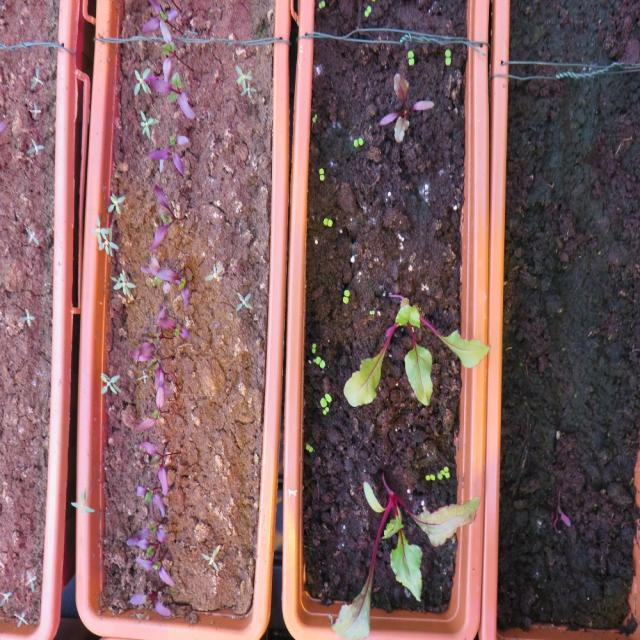weed: (68, 484, 96, 514), (138, 106, 160, 142), (98, 370, 122, 398), (200, 542, 222, 572), (106, 188, 126, 216), (24, 133, 45, 156), (26, 64, 44, 90), (203, 260, 223, 282), (21, 565, 37, 592), (16, 306, 35, 327), (234, 290, 252, 312), (23, 222, 40, 245), (12, 608, 28, 630), (26, 100, 42, 119), (406, 47, 415, 66), (342, 286, 350, 306), (352, 134, 363, 148), (321, 216, 333, 228), (444, 46, 451, 66), (303, 441, 313, 452), (424, 473, 435, 482), (364, 3, 371, 17), (318, 166, 324, 182), (310, 112, 317, 124), (367, 306, 375, 316), (317, 0, 324, 10), (311, 341, 316, 354)
